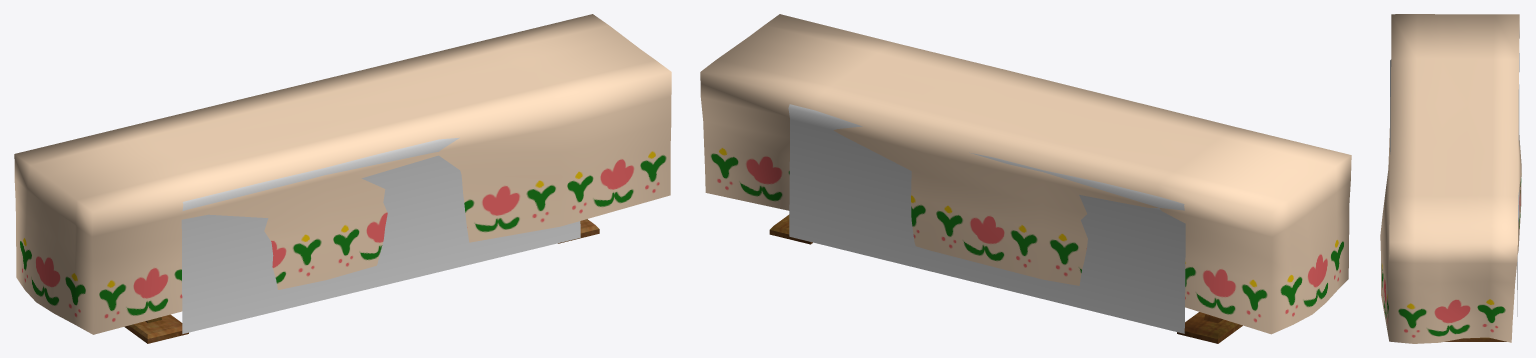
File: Table_Long.fbx
3 views of the same model, side by side, from view 1: azimuth 30°, elevation 25°; view 2: azimuth 150°, elevation 25°; view 3: azimuth 270°, elevation 25° (orthographic). The views are drawn at different scales.
Parts seen in each view (by area): view 1: Tablecloth, Tablecloth_Prayer, Table_Long; view 2: Tablecloth, Tablecloth_Prayer, Table_Long; view 3: Tablecloth, Tablecloth_Prayer, Table_Long.
Boxes of the visible parts, box(x1,y1,x2,y2) form: Tablecloth: box(14, 14, 671, 334); Tablecloth_Prayer: box(181, 137, 580, 333); Table_Long: box(124, 219, 599, 343); Tablecloth: box(700, 14, 1351, 334); Tablecloth_Prayer: box(788, 104, 1185, 333); Table_Long: box(769, 214, 1242, 343); Tablecloth: box(1380, 14, 1521, 343); Tablecloth_Prayer: box(1390, 59, 1519, 316); Table_Long: box(1445, 337, 1506, 341).
Bounding box in the file's own units: 4.15 × 1.04 × 1.06.
